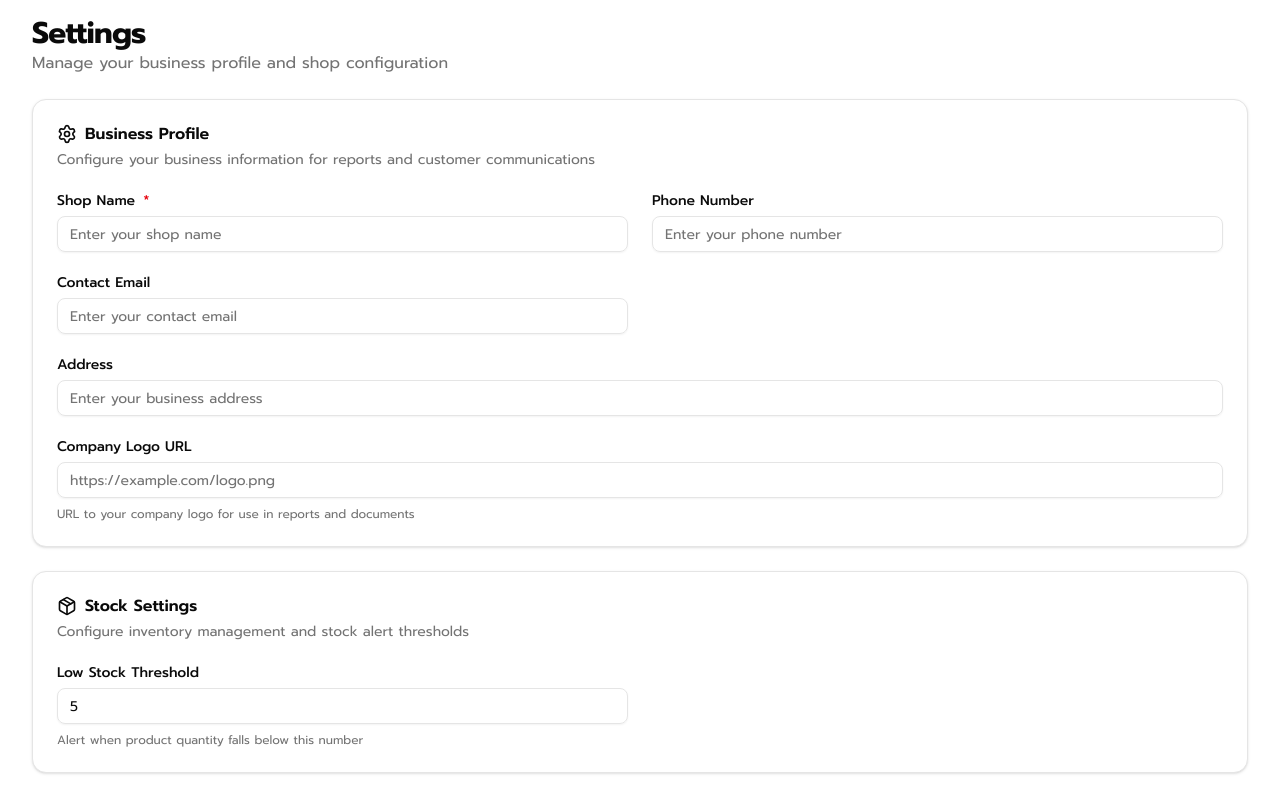
Scenario: Settings Page › validates URL format for logo
Type "Test Shop" into the field labelled "Shop Name *" at (342, 234), box [57,216,628,252]
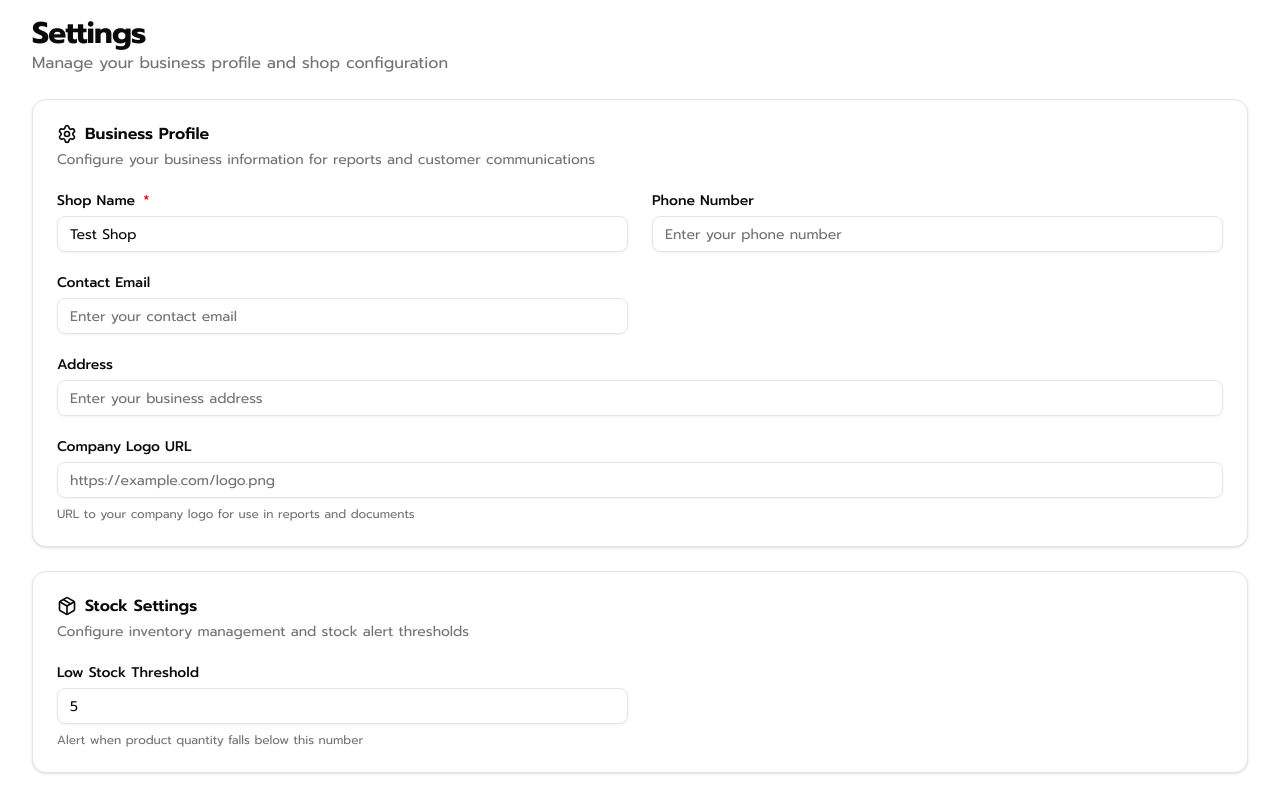
Type "invalid-url" into the field labelled "Company Logo URL" at (640, 480), box [57,462,1223,498]
(page scrolled)
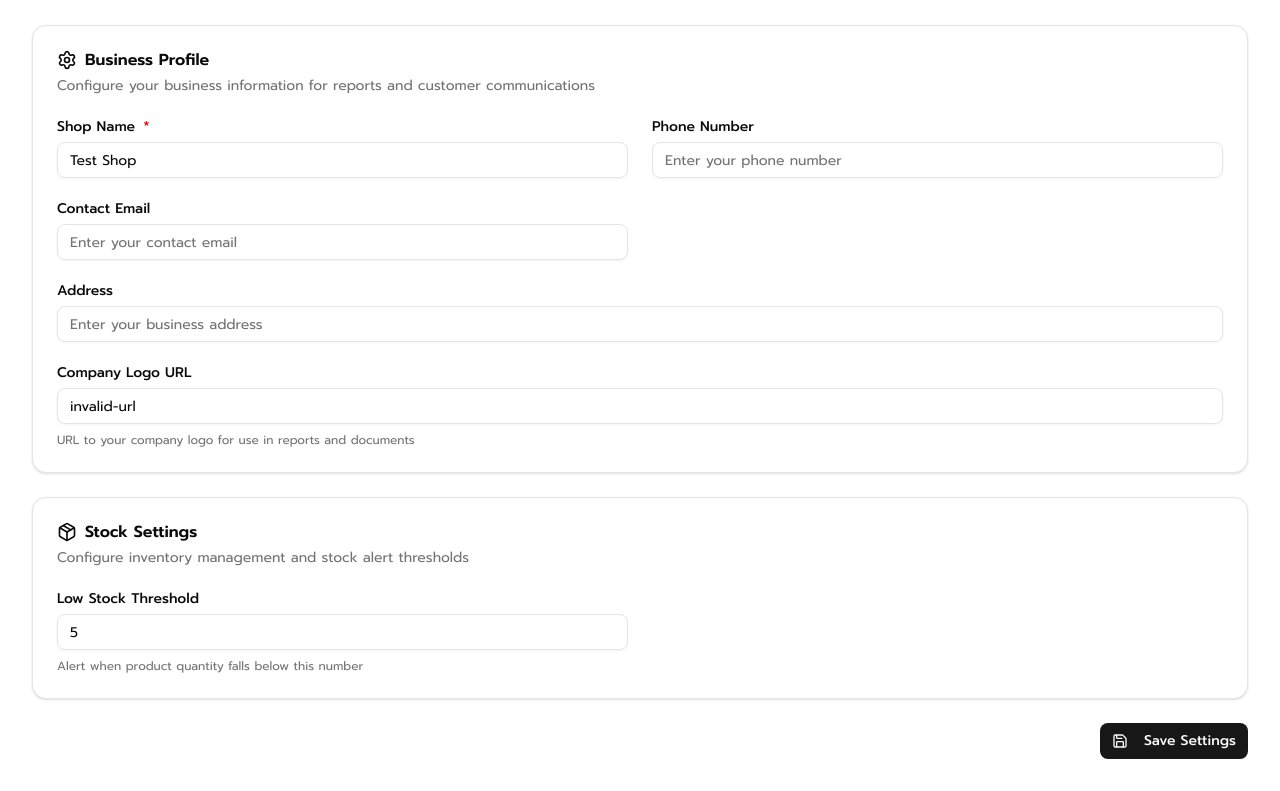
Submit the form named "Save Settings"
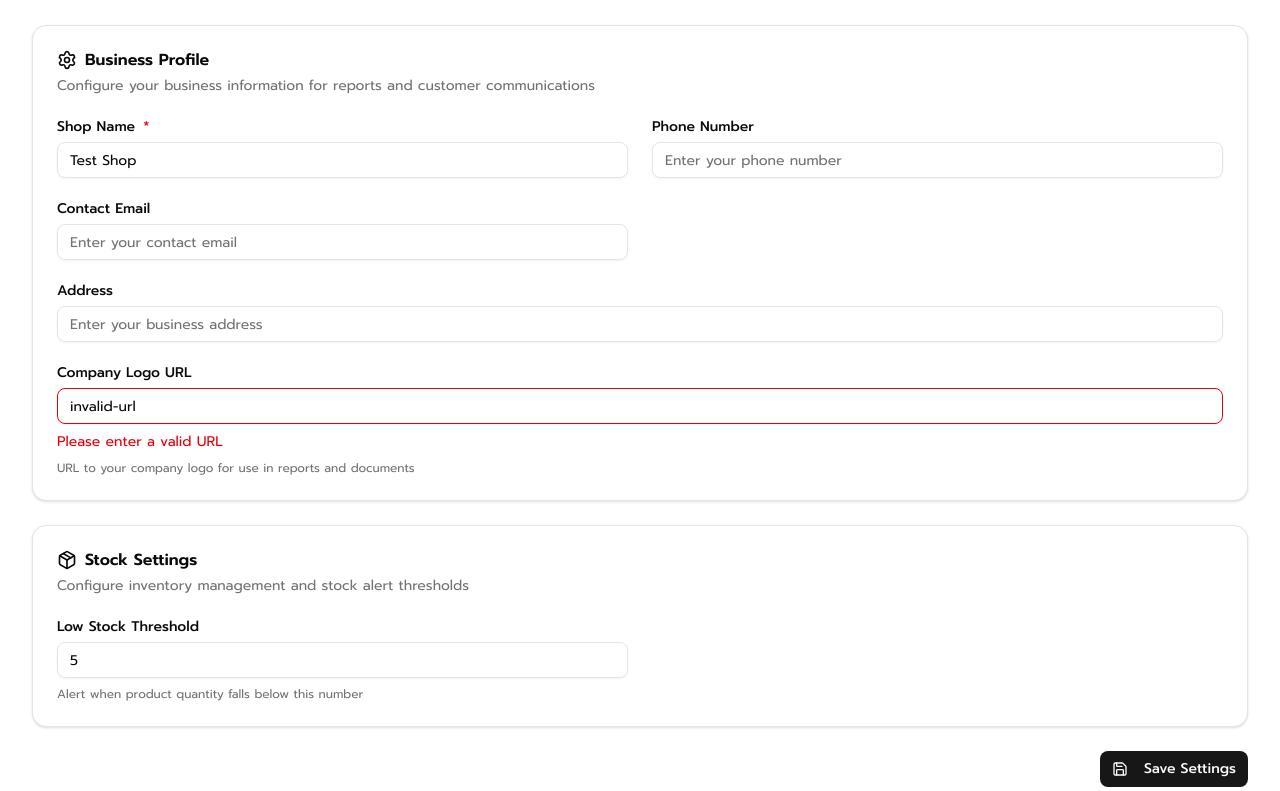
Now the text "Please enter a valid URL" is shown, box [57,431,223,452]
